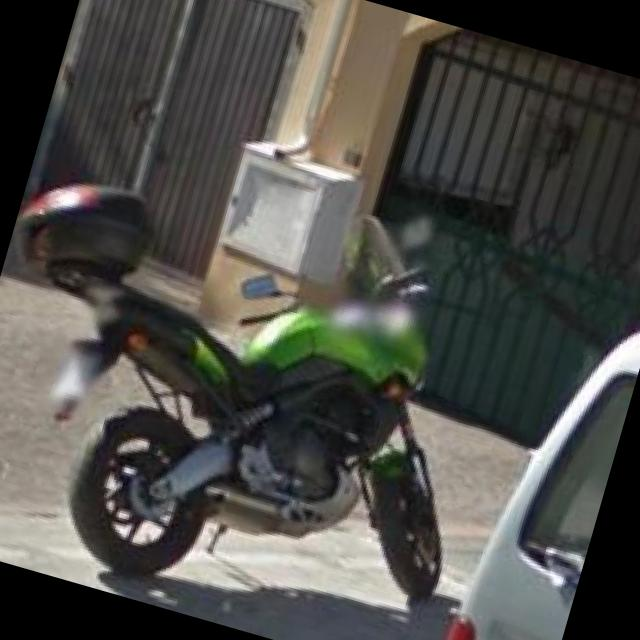bike: (15, 182, 443, 599), (442, 324, 640, 640)
